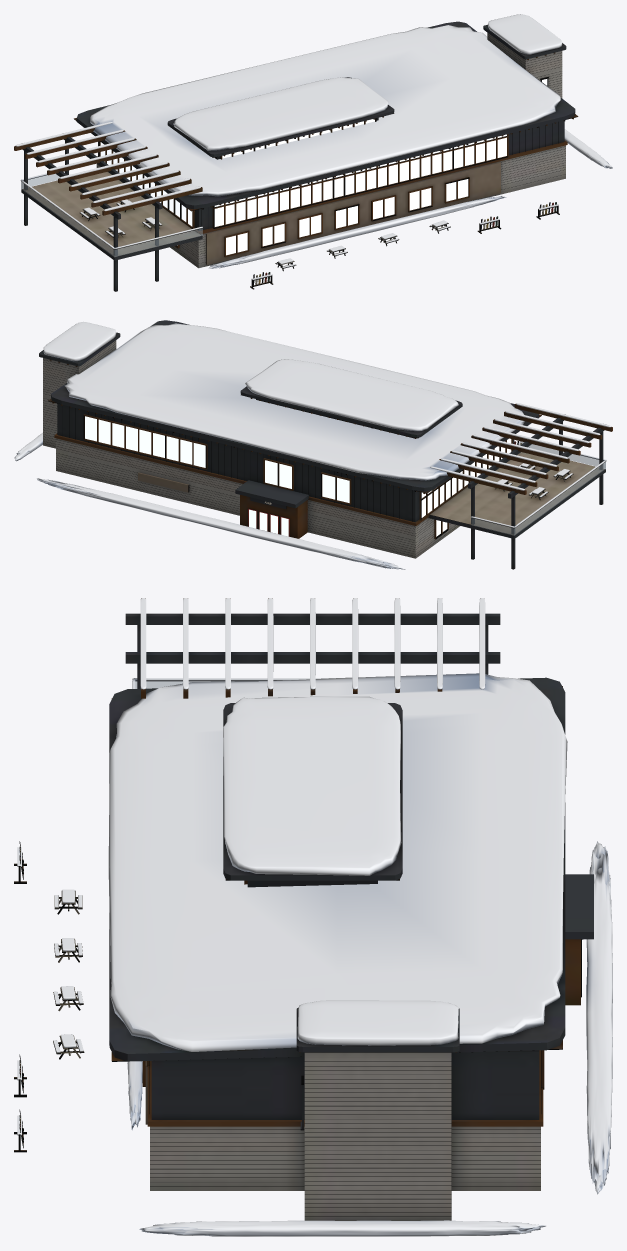
The model's file is the_aerie.glb.
The picture shows the model from 3 angles, top to bottom: view 1: azimuth 30°, elevation 25°; view 2: azimuth 150°, elevation 25°; view 3: azimuth 270°, elevation 25°; orthographic projection. The views are drawn at different scales.
Visible parts, largest first — view 1: the_aerie_snow, the_aerie, the_aerie_lit, the_aerie_glass; view 2: the_aerie_snow, the_aerie, the_aerie_lit, the_aerie_glass; view 3: the_aerie_snow, the_aerie.
Boxes of the visible parts, box(x1,y1,x2,y2) form: the_aerie_snow: box(15, 14, 612, 279); the_aerie: box(14, 21, 578, 291); the_aerie_lit: box(100, 79, 547, 255); the_aerie_glass: box(21, 171, 202, 256); the_aerie_snow: box(14, 322, 611, 569); the_aerie: box(39, 320, 612, 569); the_aerie_lit: box(85, 416, 511, 536); the_aerie_glass: box(471, 441, 605, 535); the_aerie_snow: box(17, 598, 612, 1236); the_aerie: box(14, 598, 593, 1220).
Size of the model in its own units: 69.77 by 13.16 by 36.77.
Materials: 5 (1 with a texture image).
